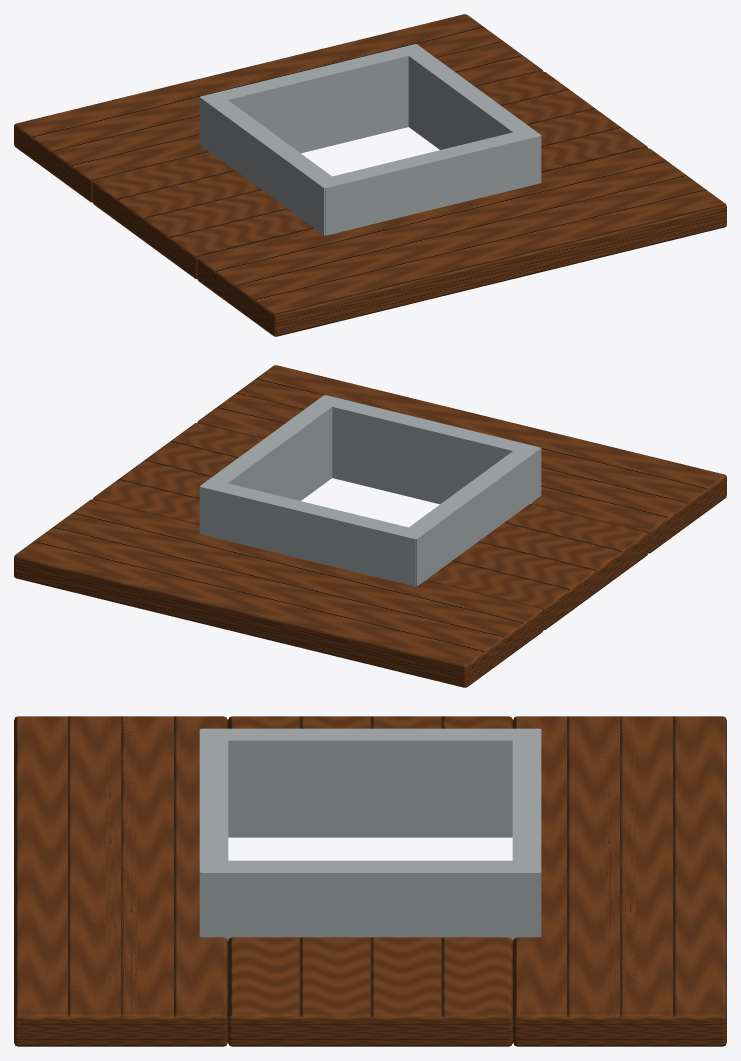
Rendered from modular-survival-base-builder-roof-skylight-frame-9da6cf5b__24181.glb.
3 renders of one model, top to bottom at view 1: azimuth 30°, elevation 25°; view 2: azimuth 150°, elevation 25°; view 3: azimuth 270°, elevation 25°, orthographic. The views are drawn at different scales.
Visible parts, largest first — view 1: roof-skylight-frame; view 2: roof-skylight-frame; view 3: roof-skylight-frame.
Boxes of the visible parts, bbox=[...] form: roof-skylight-frame: bbox=[14, 14, 726, 336]; roof-skylight-frame: bbox=[14, 365, 726, 687]; roof-skylight-frame: bbox=[14, 716, 726, 1046].
Size of the model in its own units: 2 by 0.3 by 2.
Materials: 2 (1 with a texture image).
